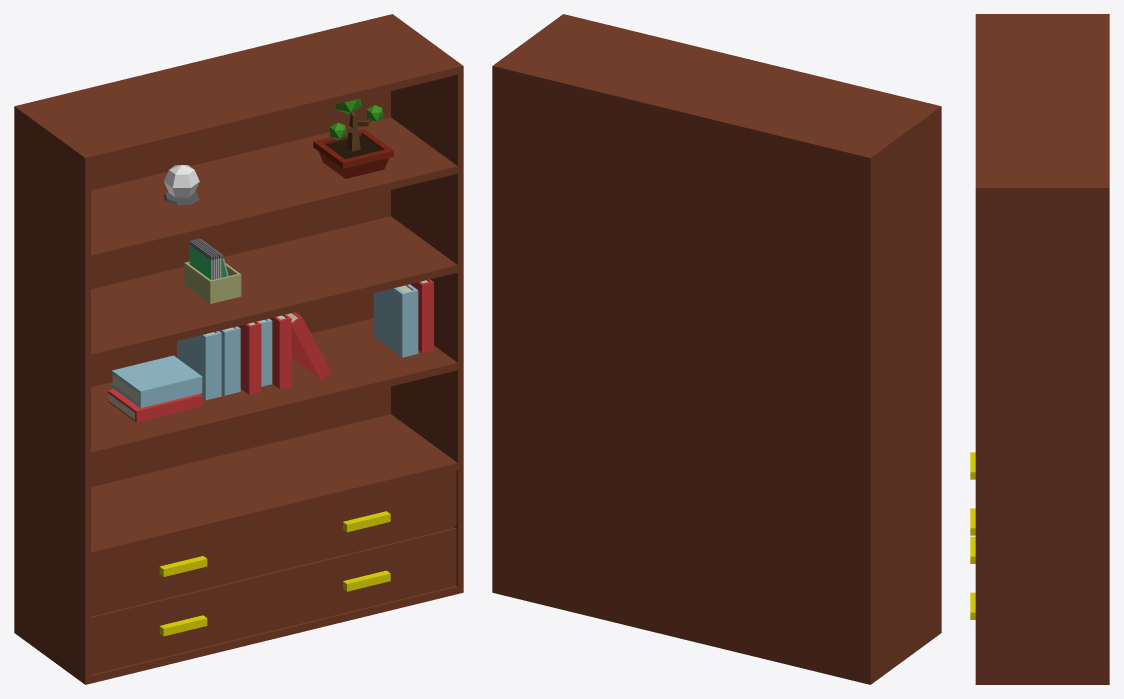
The model's file is bookshelf.fbx.
The picture shows the model from 3 angles, left to right: view 1: azimuth 30°, elevation 25°; view 2: azimuth 150°, elevation 25°; view 3: azimuth 270°, elevation 25°; orthographic projection. The views are drawn at different scales.
Parts seen in each view (by area): view 1: bookshelf, bonsai, book2_004, book2, book2_003, book1, cd_holder, book1_003, book1_002, book1_004, book2_002, snowglobe (+2 smaller); view 2: bookshelf; view 3: bookshelf.
Part boxes in pixels (box(x1,y1,x2,y2)): bookshelf: box(14, 14, 463, 684); bonsai: box(313, 98, 393, 178); book2_004: box(112, 355, 202, 408); book2: box(373, 284, 418, 357); book2_003: box(177, 331, 221, 400); book1: box(238, 321, 261, 394); cd_holder: box(184, 261, 241, 303); book1_003: box(286, 312, 331, 379); book1_002: box(269, 314, 291, 388); book1_004: box(108, 389, 202, 422); book2_002: box(219, 326, 240, 395); snowglobe: box(164, 165, 199, 205); bookshelf: box(492, 14, 941, 684); bookshelf: box(970, 14, 1109, 684).
Bounding box in the file's own units: 1.6 × 2.13 × 0.54.
